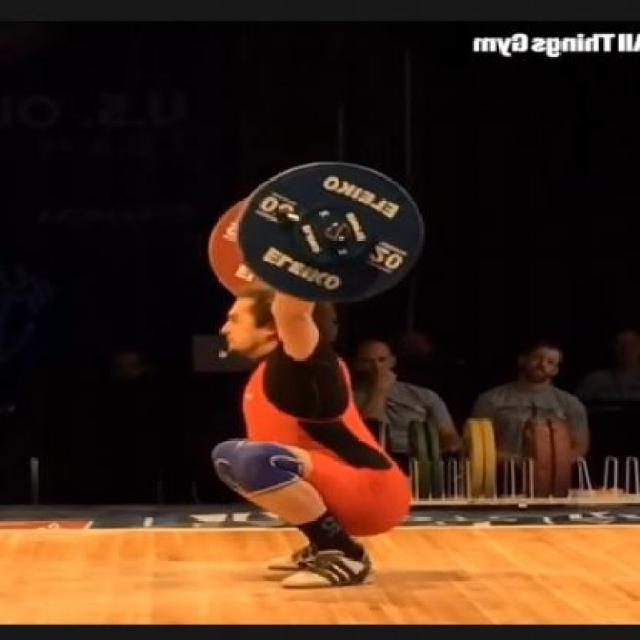Barbell: (318, 220, 357, 242)
